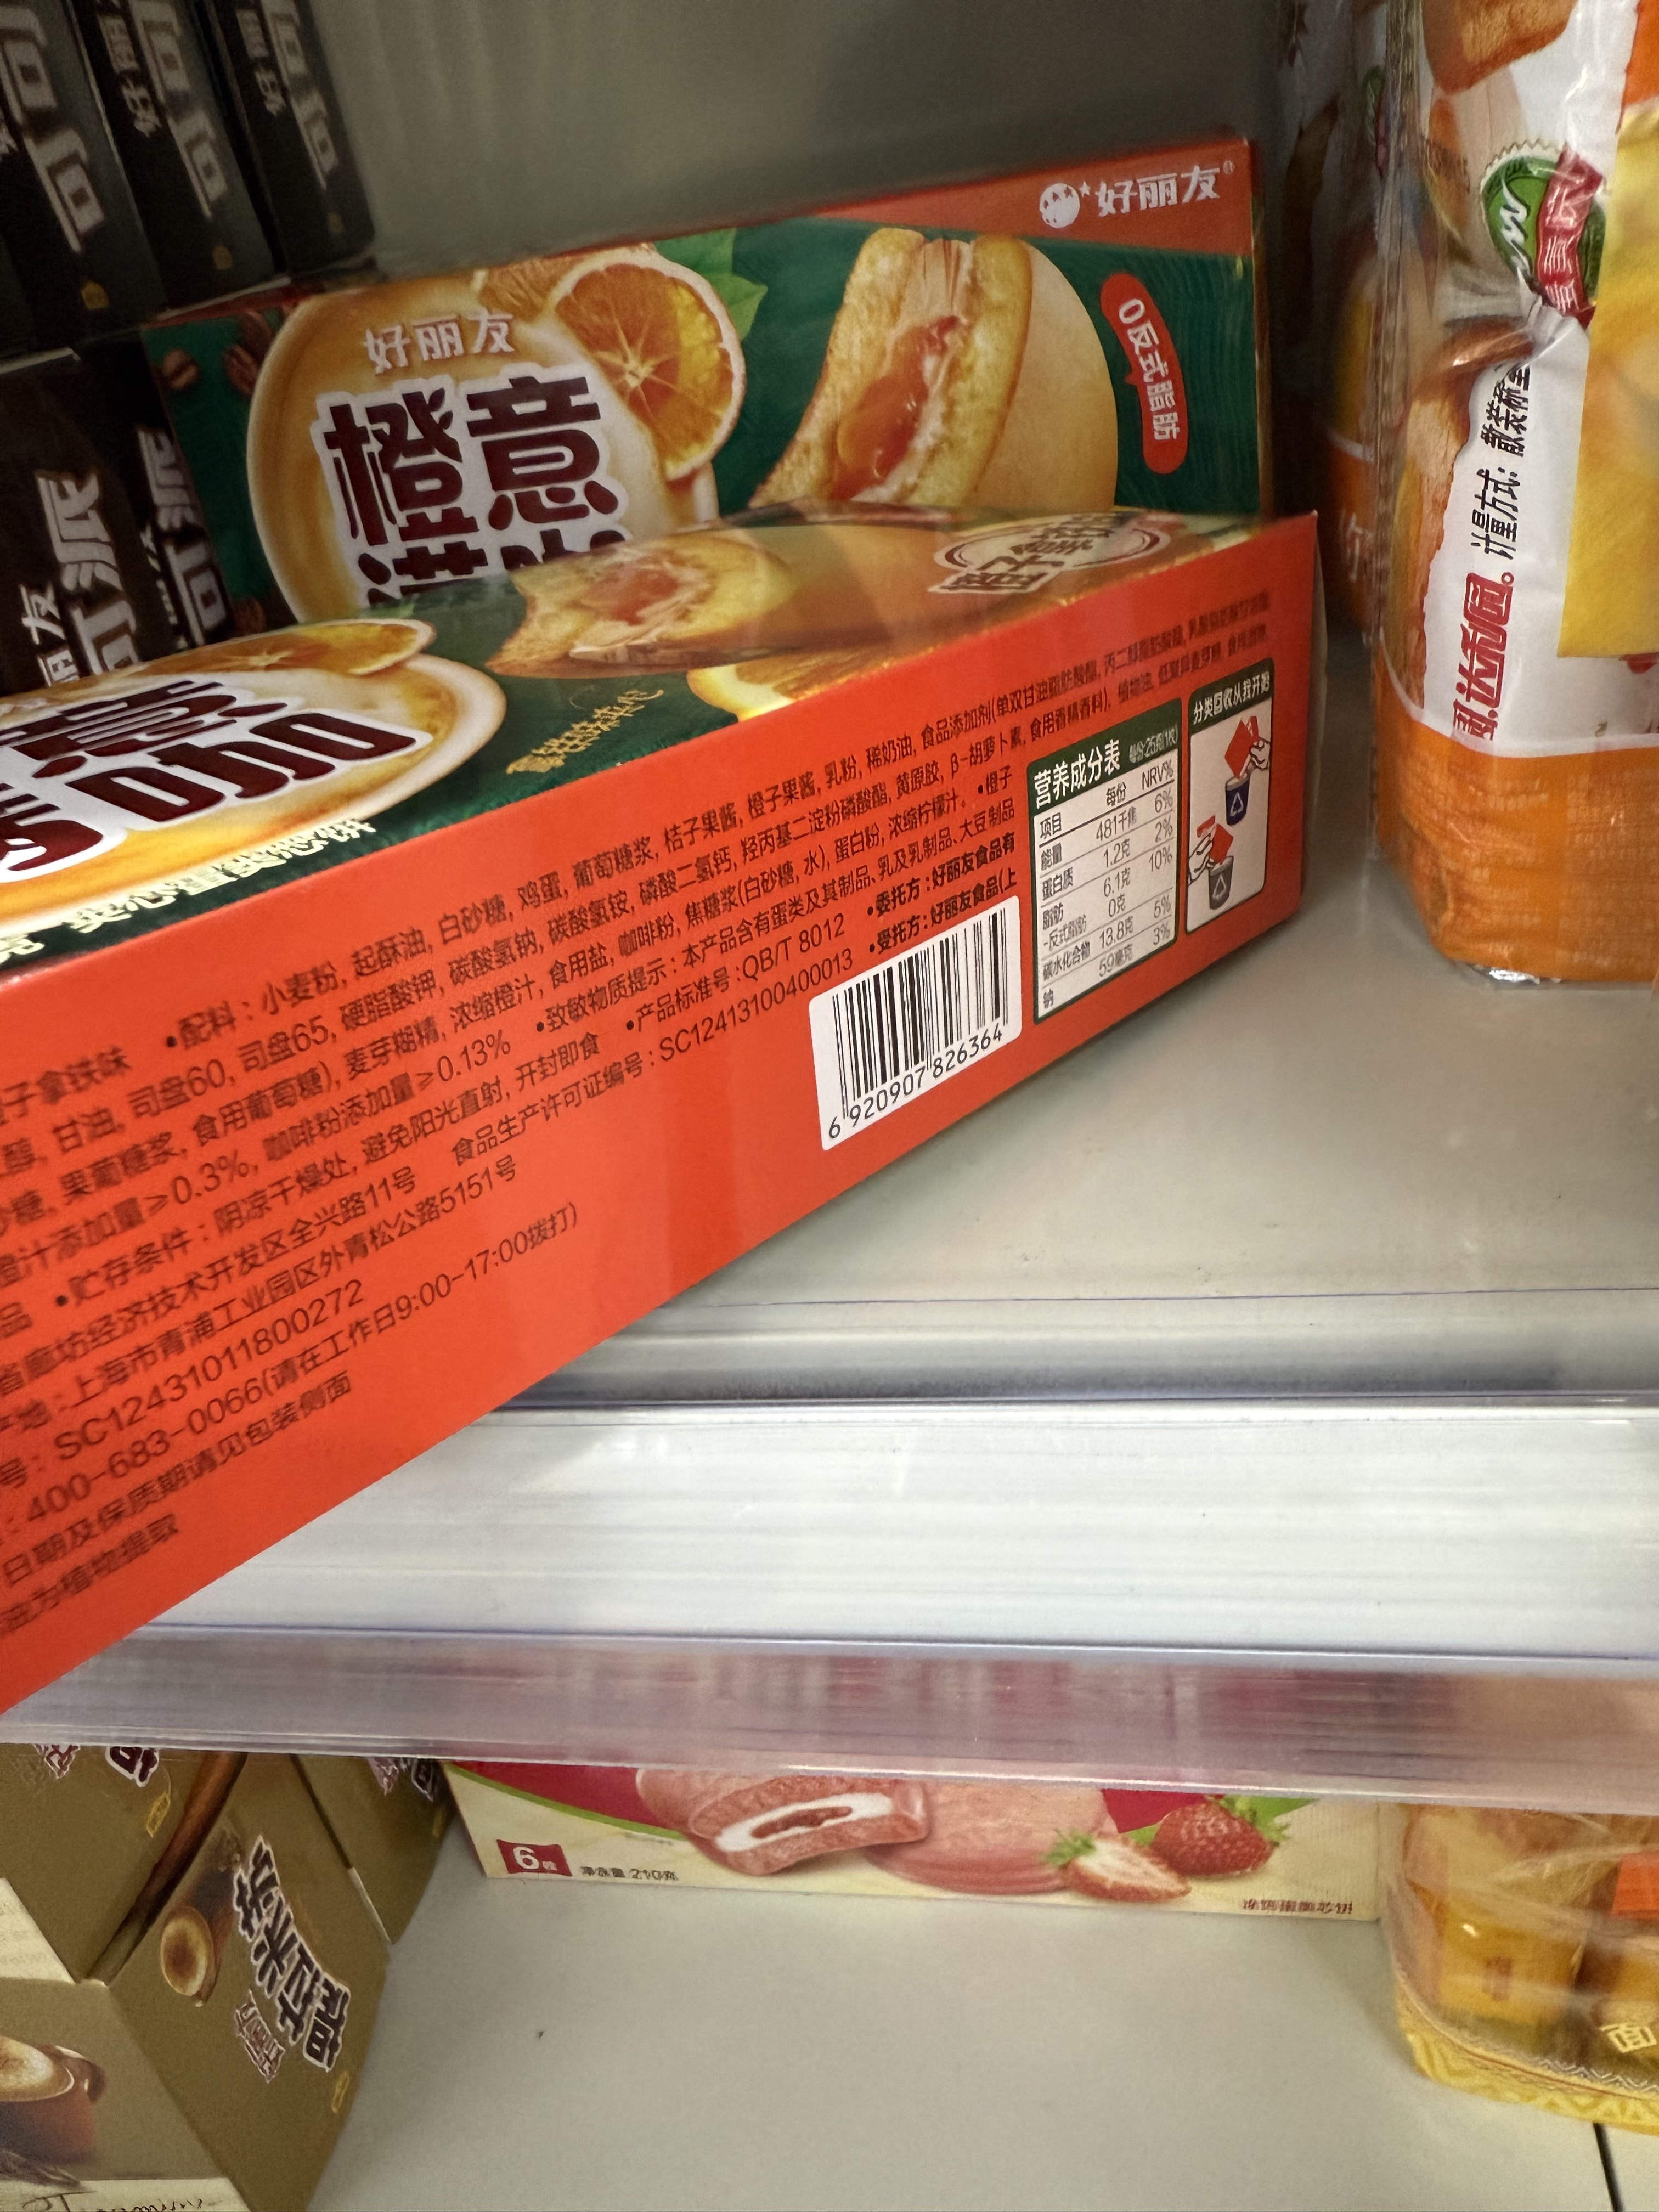bar: (823, 902, 1019, 1127)
